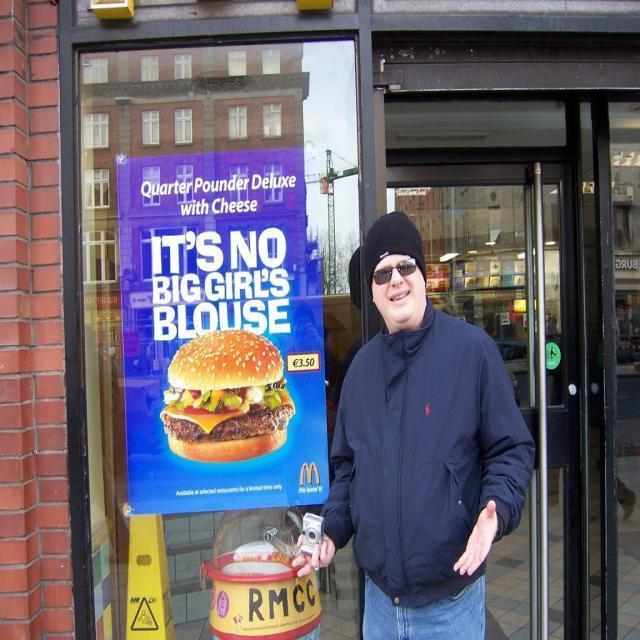Hamburger: (158, 328, 298, 464)
